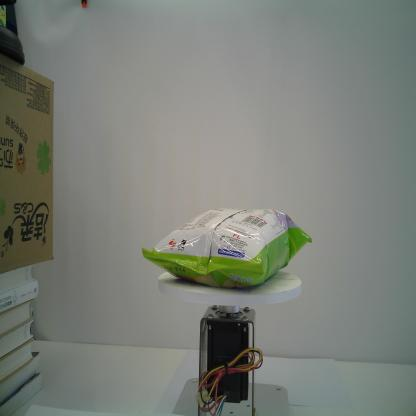Puffed Food: (140, 205, 315, 292)
